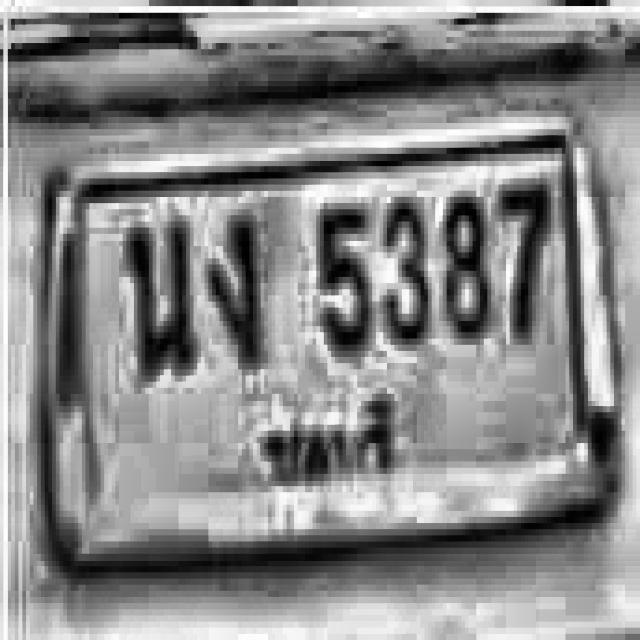license-plate: (30, 104, 640, 578)
